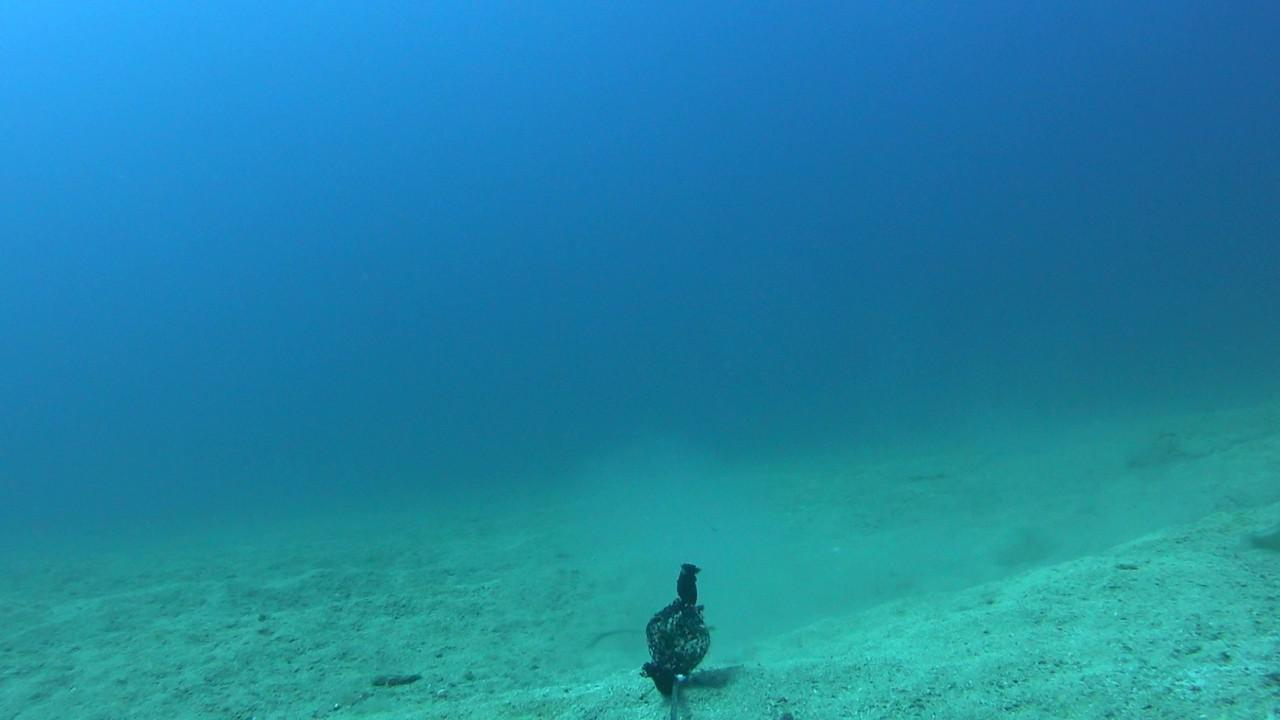myliobatis: (883, 445, 974, 496)
